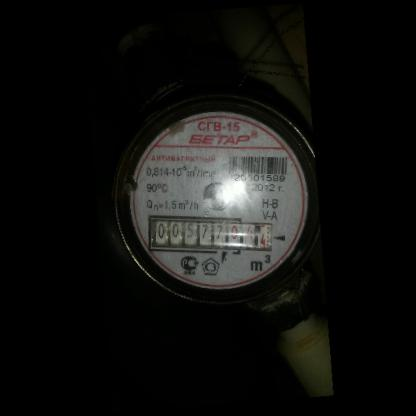digital_screen: (145, 213, 230, 256)
